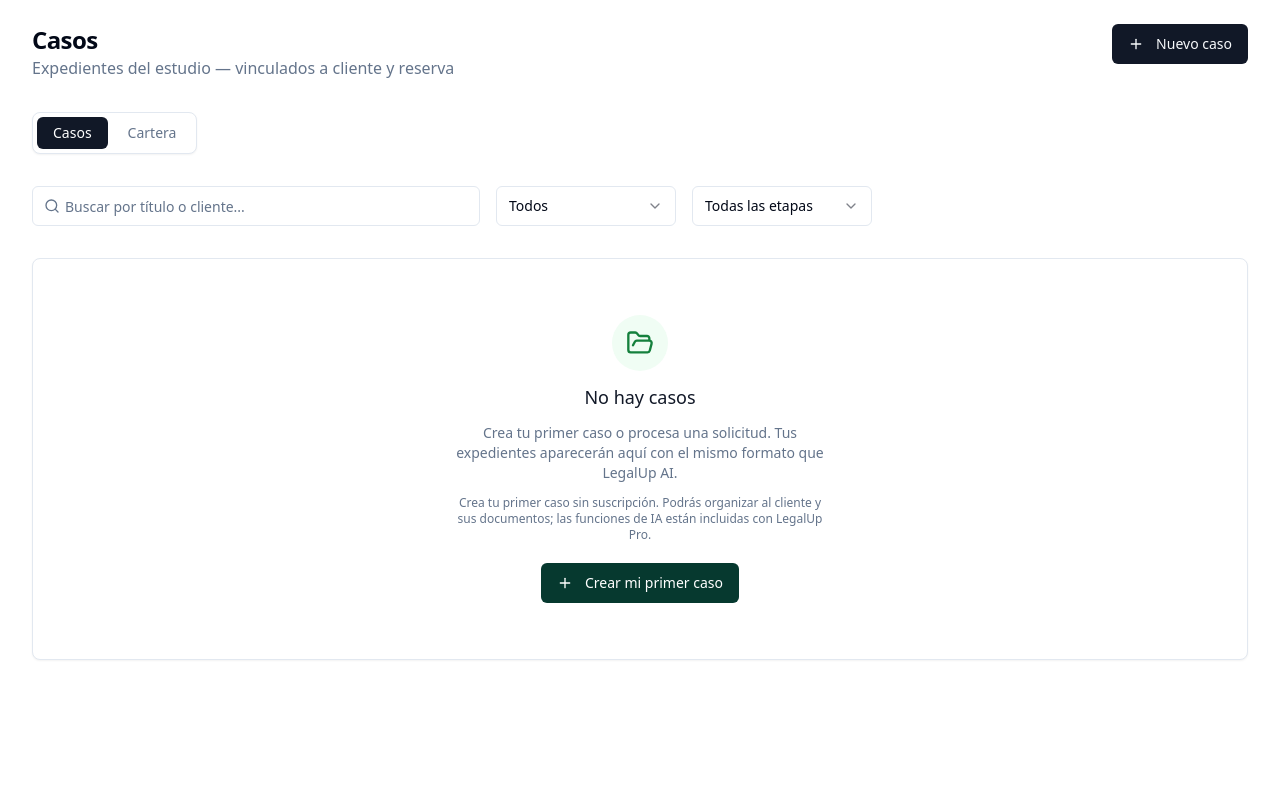
Scenario: 4.31C.2 — E2E: real CasesPage + real useLawyerClients, Supabase boundary mocked › missing session → explicit error, not silent empty
Click the button "Nuevo caso": {"x": 1180, "y": 44} x1=1112 y1=24 x2=1248 y2=64
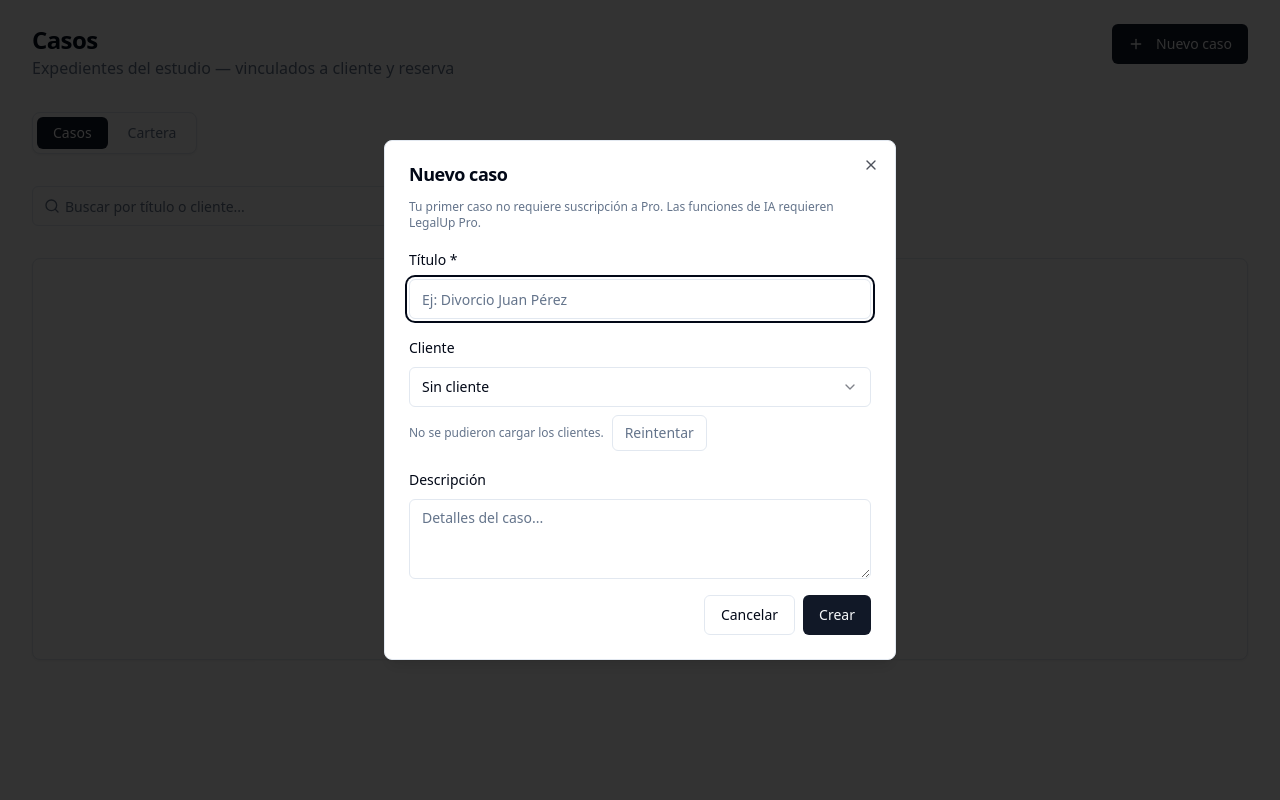
Result: the text "No se pudieron cargar los clientes." is shown at x1=409 y1=425 x2=604 y2=441
